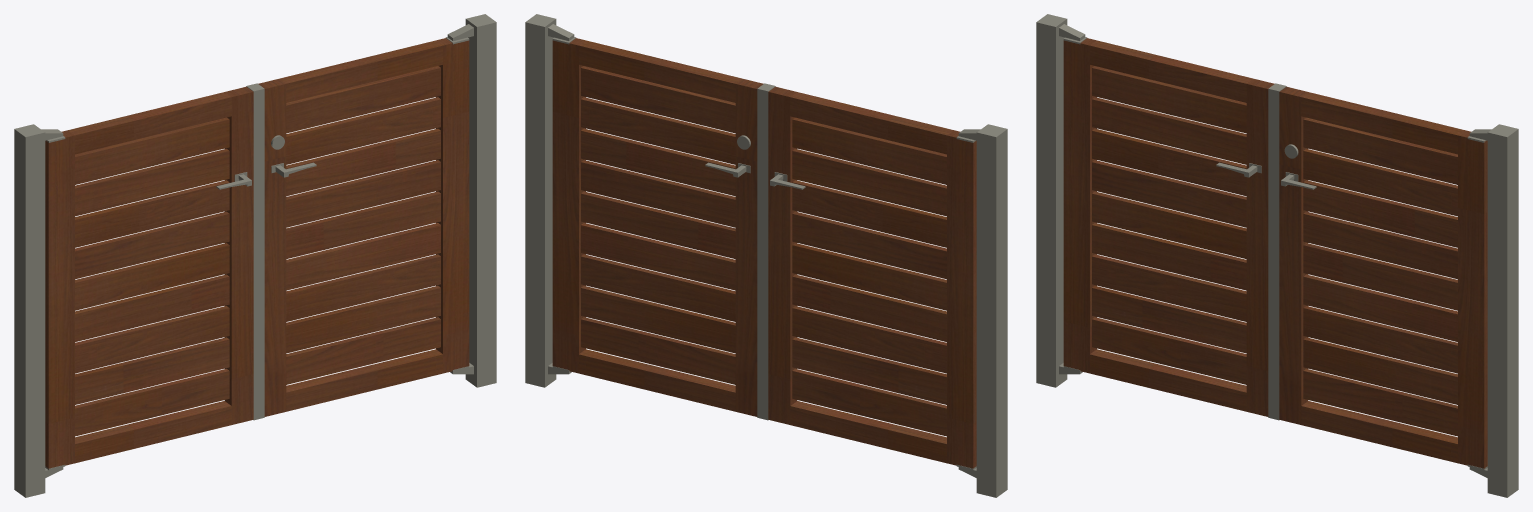
Rendered from awmonpi2-102yoko_h1200-w800-800_walnut.fbx.
3 views of the same model, side by side, from view 1: azimuth 30°, elevation 25°; view 2: azimuth 150°, elevation 25°; view 3: azimuth 330°, elevation 25° (orthographic).
Visible parts, largest first — view 1: awmonpi2-102yoko_h1200-w800-800_chacoalgray.008; view 2: awmonpi2-102yoko_h1200-w800-800_chacoalgray.008; view 3: awmonpi2-102yoko_h1200-w800-800_chacoalgray.008.
Part boxes in pixels (bbox=[...]): awmonpi2-102yoko_h1200-w800-800_chacoalgray.008: bbox=[14, 14, 496, 497]; awmonpi2-102yoko_h1200-w800-800_chacoalgray.008: bbox=[525, 14, 1007, 497]; awmonpi2-102yoko_h1200-w800-800_chacoalgray.008: bbox=[1036, 14, 1518, 497].
Bounding box in the file's own units: 180 × 132 × 16.7.
2 materials, 2 textured.
